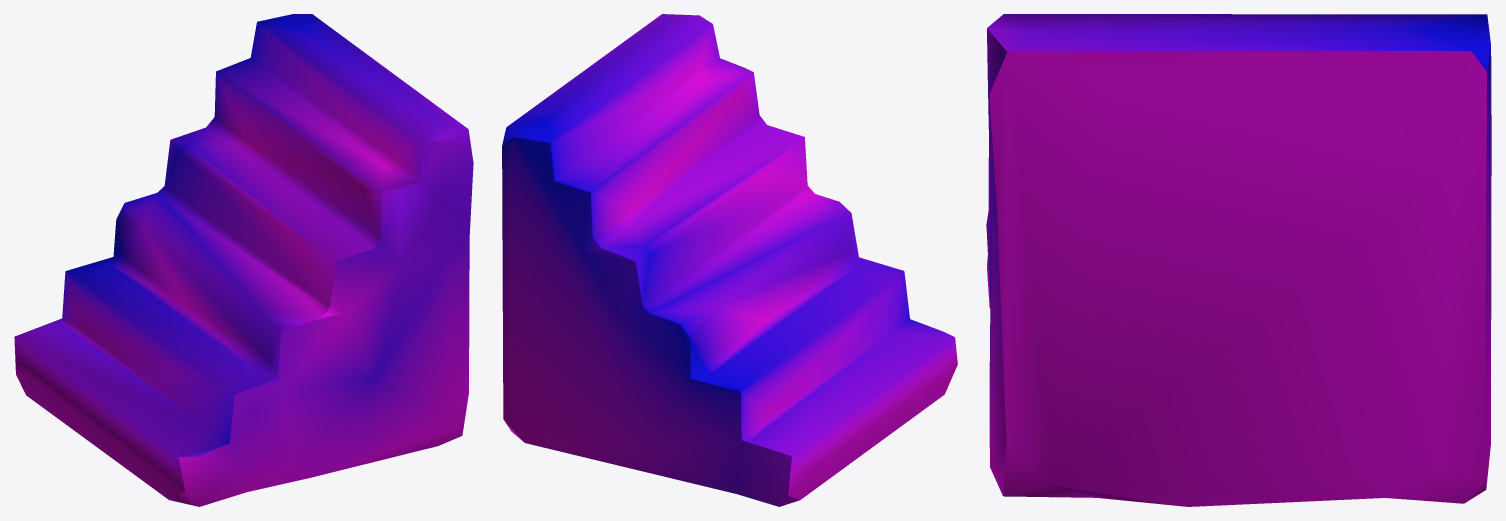
The model's file is SM_Stairs_C.FBX.
3 views of the same model, side by side, from view 1: azimuth 30°, elevation 25°; view 2: azimuth 150°, elevation 25°; view 3: azimuth 270°, elevation 25° (orthographic). The views are drawn at different scales.
Parts seen in each view (by area): view 1: SM_Stairs_C; view 2: SM_Stairs_C; view 3: SM_Stairs_C.
Boxes of the visible parts, left/top/right/bottom form: SM_Stairs_C: left=14, top=14, right=473, bottom=506; SM_Stairs_C: left=502, top=14, right=957, bottom=506; SM_Stairs_C: left=986, top=14, right=1491, bottom=506.
Size of what is drawn, in the model's own units: 99.83 by 99.73 by 101.
